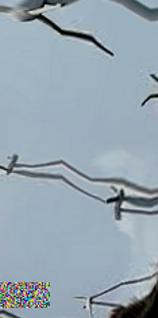faulty: (10, 4, 134, 60)
